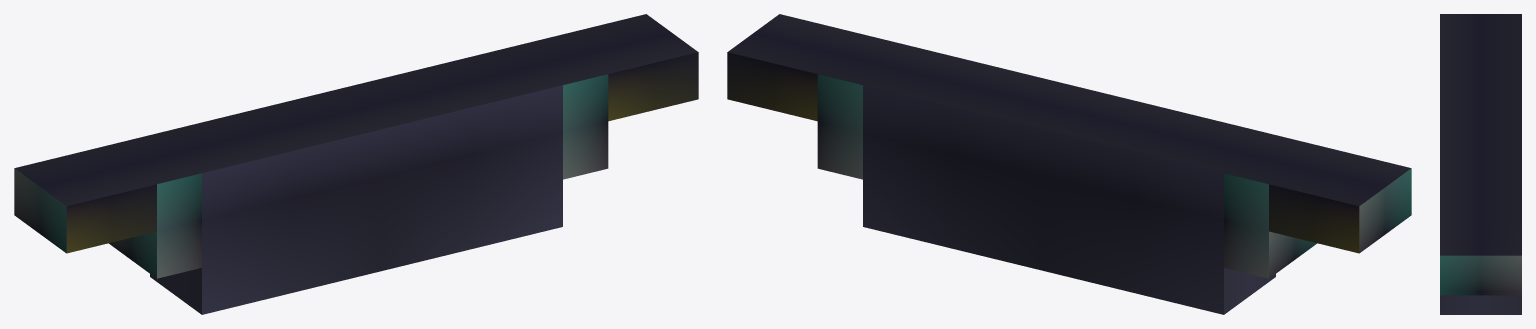
The model's file is Electronics_Stick_A_00.fbx.
The picture shows the model from 3 angles, left to right: view 1: azimuth 30°, elevation 25°; view 2: azimuth 150°, elevation 25°; view 3: azimuth 270°, elevation 25°; orthographic projection. The views are drawn at different scales.
Visible parts, largest first — view 1: Electronics_Stick_A_00; view 2: Electronics_Stick_A_00; view 3: Electronics_Stick_A_00.
Part boxes in pixels (x1,y1,x2,y2): Electronics_Stick_A_00: (14,14,698,314); Electronics_Stick_A_00: (727,14,1411,314); Electronics_Stick_A_00: (1440,14,1521,314).
Size of the model in its own units: 70 by 15 by 10.
